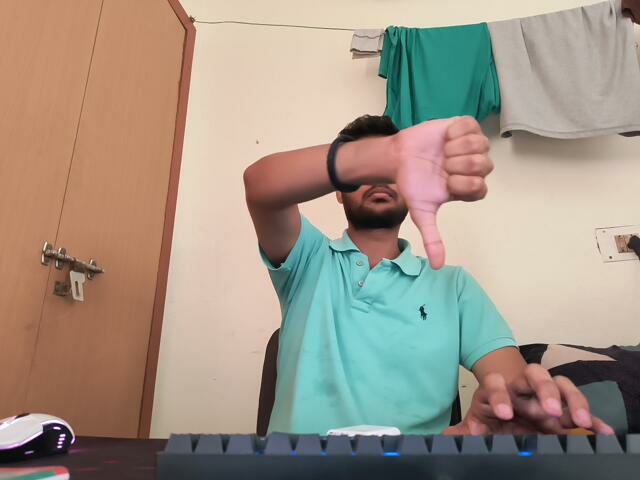td2: (391, 115, 495, 273)
